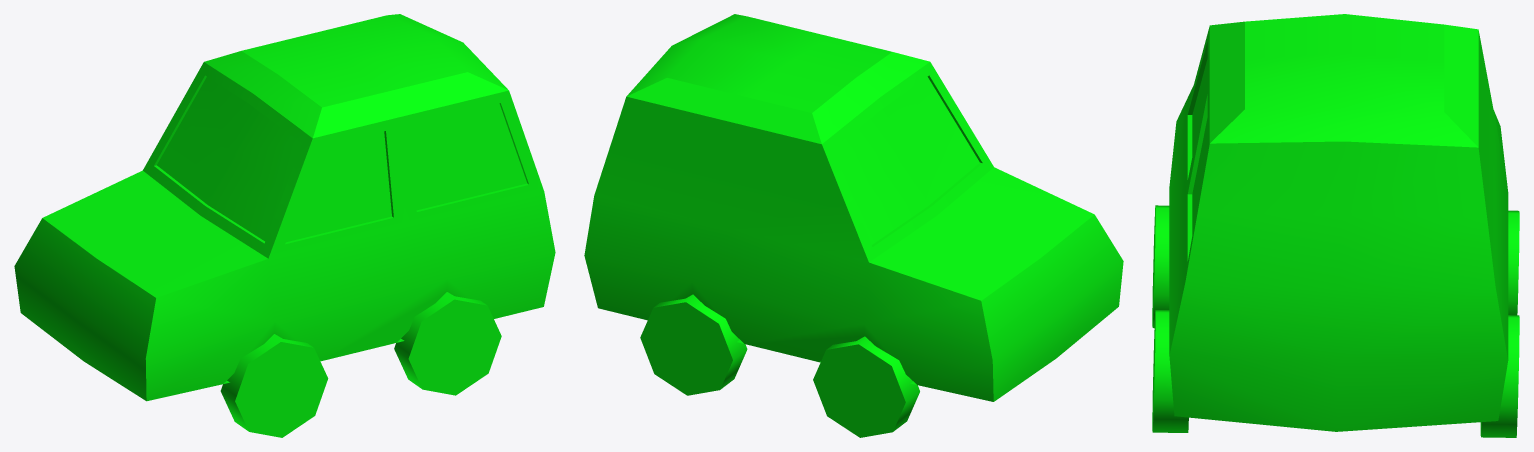
Rendered from Parts_Blocking_Car_Fix.fbx.
3 views of the same model, side by side, from view 1: azimuth 30°, elevation 25°; view 2: azimuth 150°, elevation 25°; view 3: azimuth 270°, elevation 25° (orthographic). The views are drawn at different scales.
Visible parts, largest first — view 1: Box017; view 2: Box017; view 3: Box017.
Part boxes in pixels (x1,y1,x2,y2): Box017: (14, 14, 555, 437); Box017: (584, 14, 1123, 437); Box017: (1152, 14, 1519, 437).
Size of the model in its own units: 46.47 by 31.09 by 28.66.
